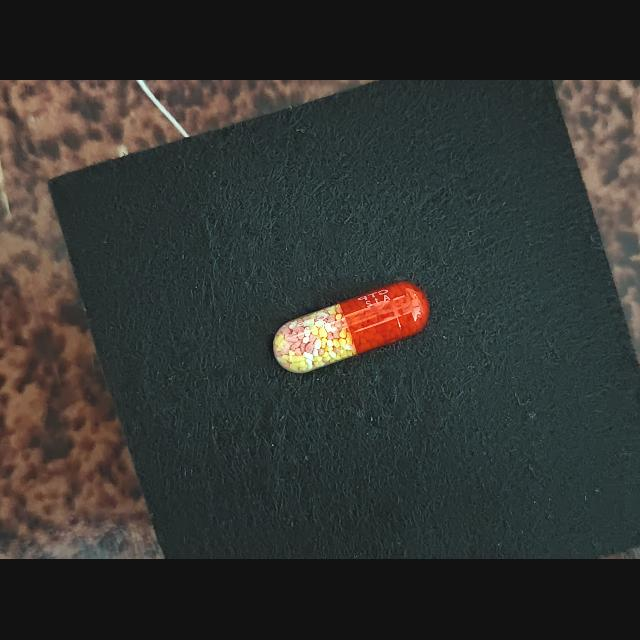Intact Capsule: (273, 282, 430, 374)
